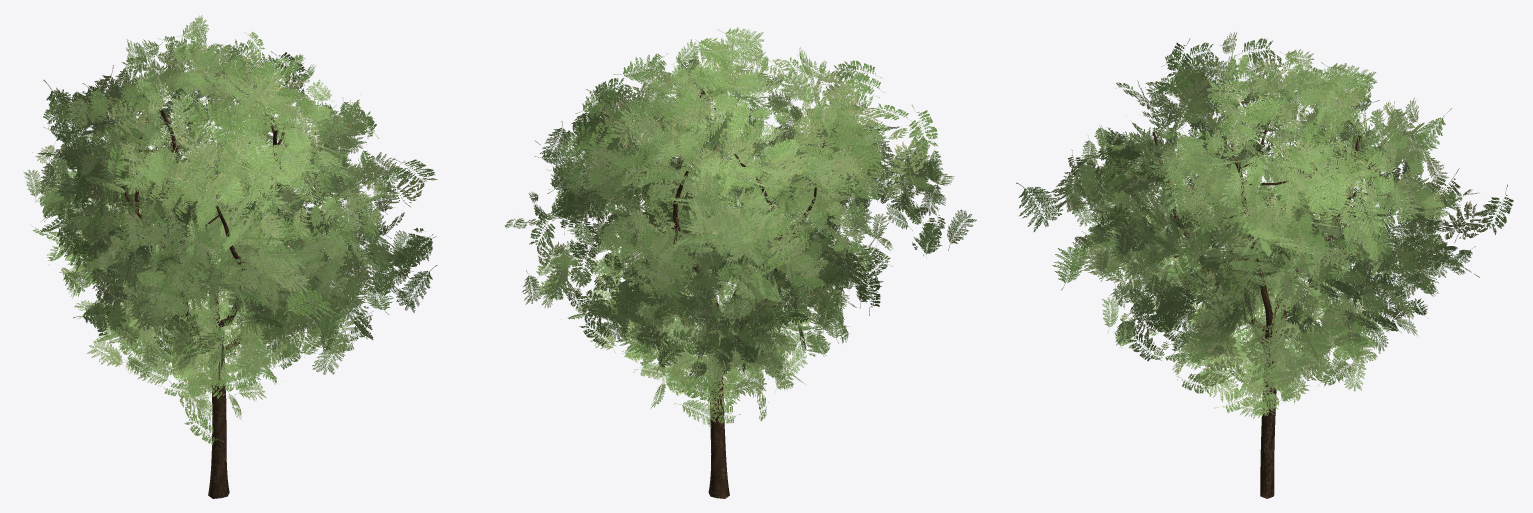
The model's file is tree_locust_v0_l0.glb.
The picture shows the model from 3 angles, left to right: view 1: azimuth 30°, elevation 25°; view 2: azimuth 150°, elevation 25°; view 3: azimuth 270°, elevation 25°; orthographic projection. The views are drawn at different scales.
Parts seen in each view (by area): view 1: tree_locust_v0_l0; view 2: tree_locust_v0_l0; view 3: tree_locust_v0_l0.
Part boxes in pixels (bbox=[...]): tree_locust_v0_l0: bbox=[23, 15, 437, 498]; tree_locust_v0_l0: bbox=[505, 27, 976, 498]; tree_locust_v0_l0: bbox=[1016, 32, 1513, 498].
Bounding box in the file's own units: 9.03 × 9.76 × 10.22.
2 materials, 2 textured.
